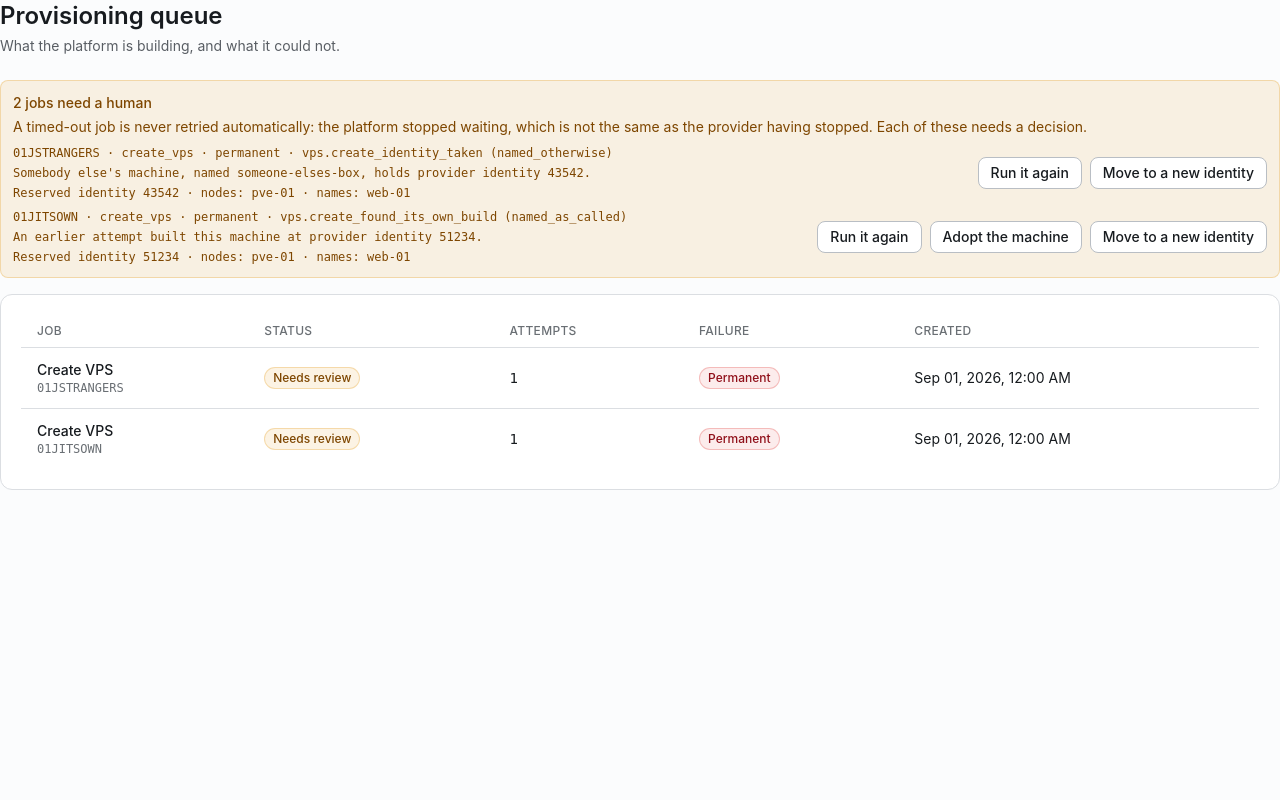
AdminProvisioningPage review list › offers to adopt the reserved identity where the job found its own build there
Click the button "Adopt the machine" at (1006, 237), box [930, 221, 1082, 253]
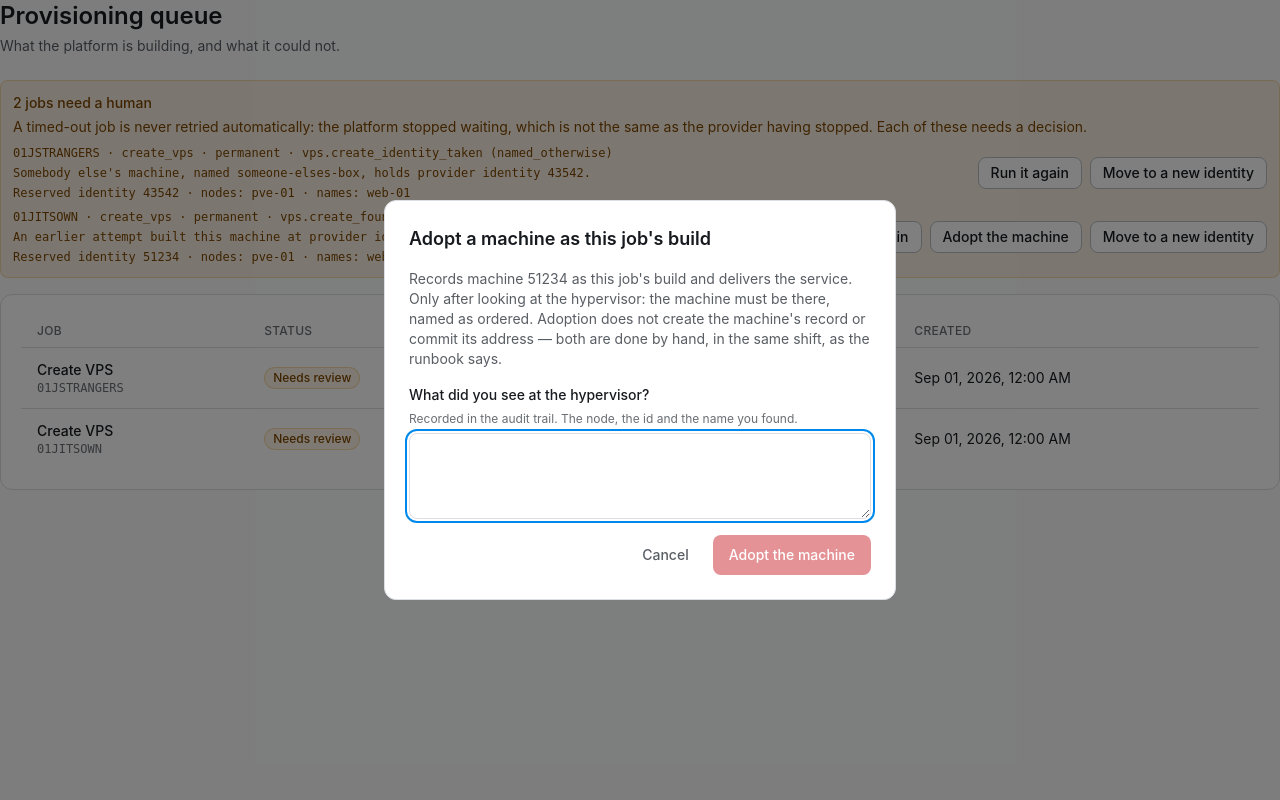
Now the text "Records machine 51234 as this job's build" is shown, box [409, 270, 870, 367]
